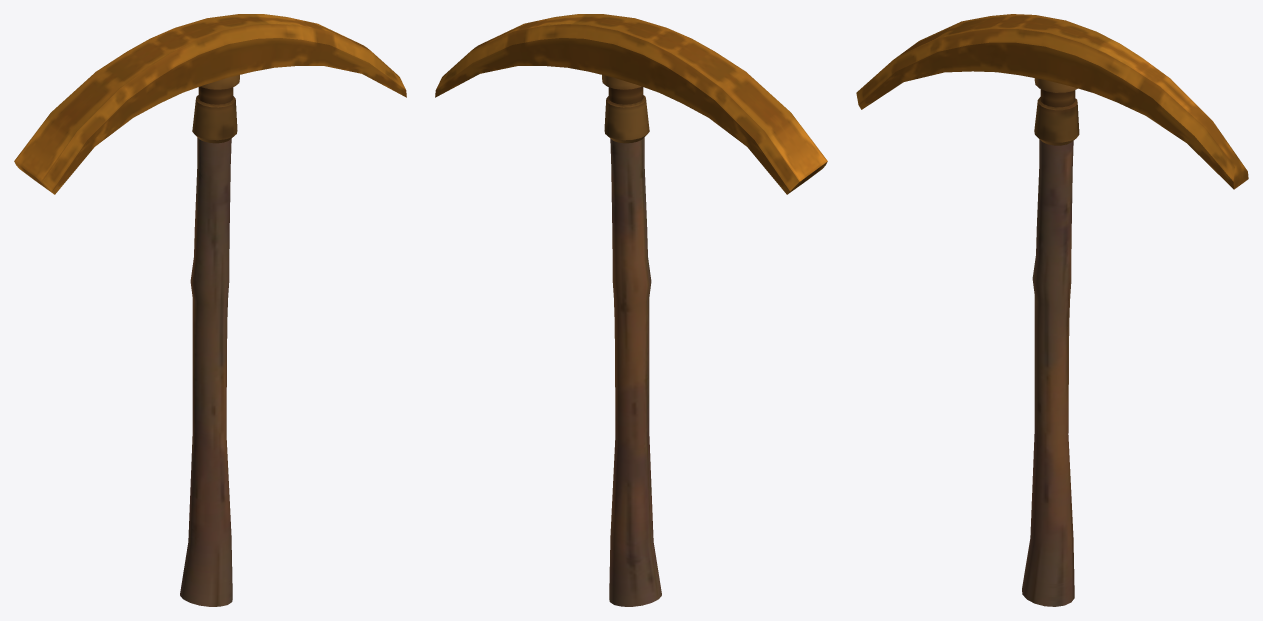
Rendered from w_pickaxe.glb.
The picture shows the model from 3 angles, left to right: view 1: azimuth 30°, elevation 25°; view 2: azimuth 150°, elevation 25°; view 3: azimuth 330°, elevation 25°; orthographic projection.
Parts seen in each view (by area): view 1: Pickaxe_Bronze; view 2: Pickaxe_Bronze; view 3: Pickaxe_Bronze.
Boxes of the visible parts, <box> form: Pickaxe_Bronze: <box>14,14,406,606</box>; Pickaxe_Bronze: <box>435,14,827,606</box>; Pickaxe_Bronze: <box>856,14,1248,606</box>.
Bounding box in the file's own units: 0.8128 × 1.2 × 0.1357.
Materials: 1 (1 with a texture image).
